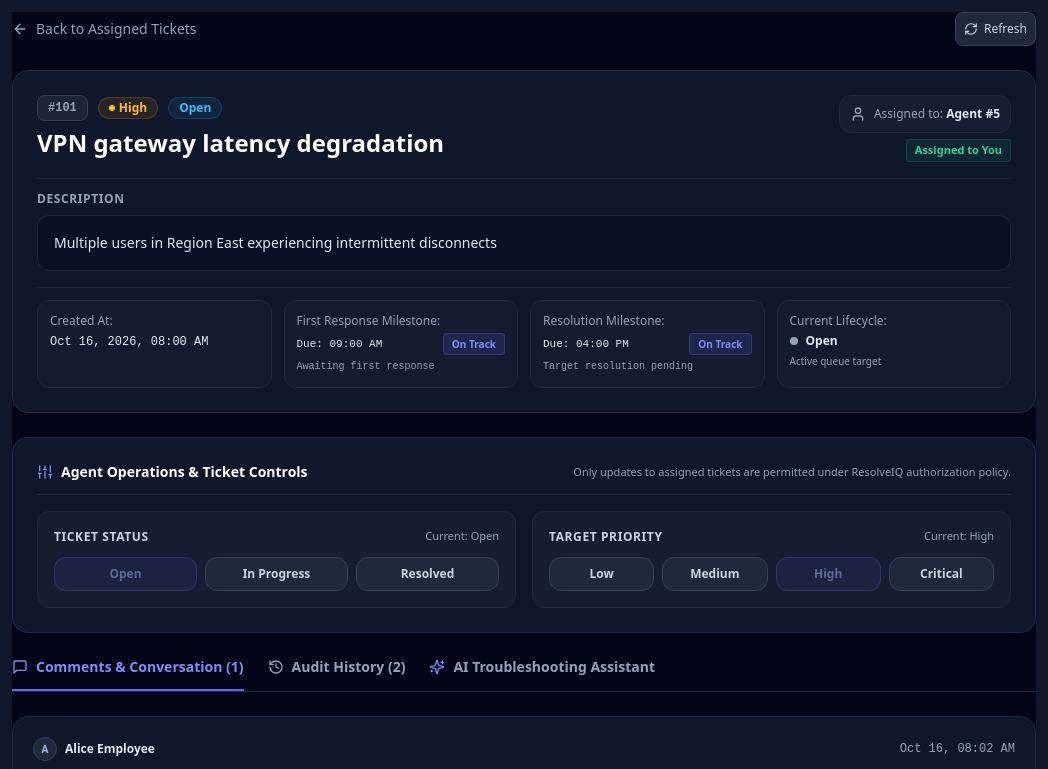
Scenario: Agent Workspace — Dashboard, Assigned Queue, Ticket Management & AI Support › TicketDetailPage — Agent Experience & SLA Workflow › successfully updates ticket status and priority and refreshes SLA and history
Expected: the heading "VPN gateway latency degradation" is shown, [37, 127, 444, 159]
# Click "In Progress" button in Agent Operations
Click the button "In Progress".
click(276, 574)  # box [205, 557, 348, 591]
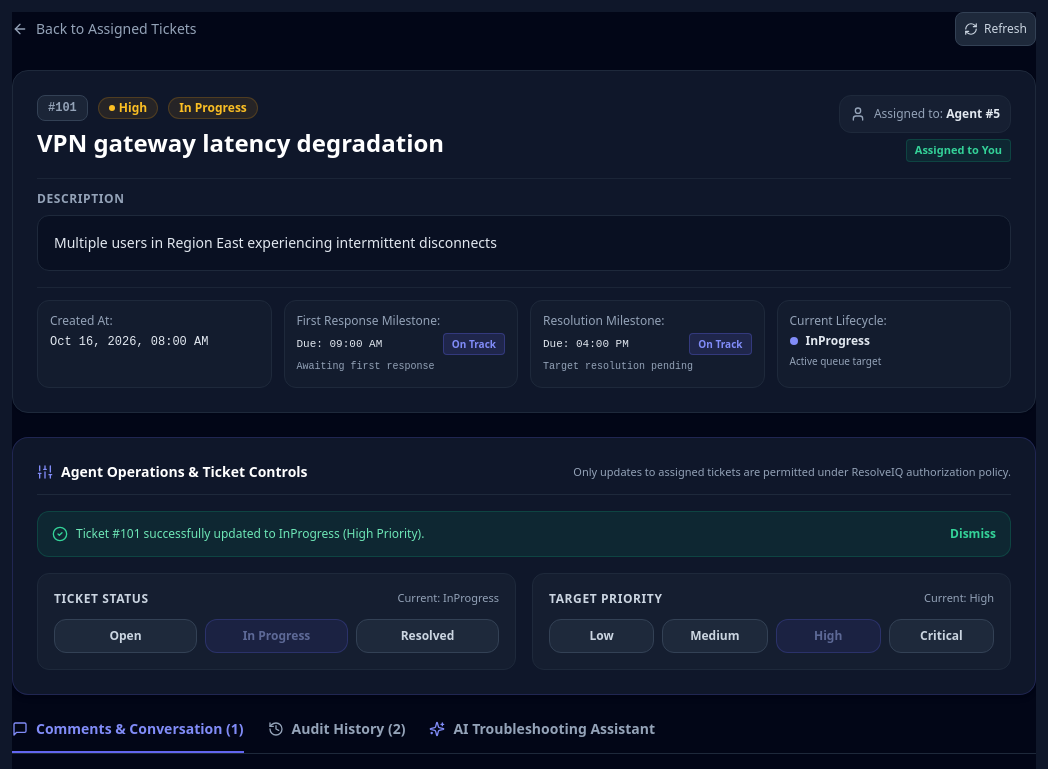
Now the text "Ticket #101 successfully updated to InProgress" is shown, box [76, 525, 424, 542]
